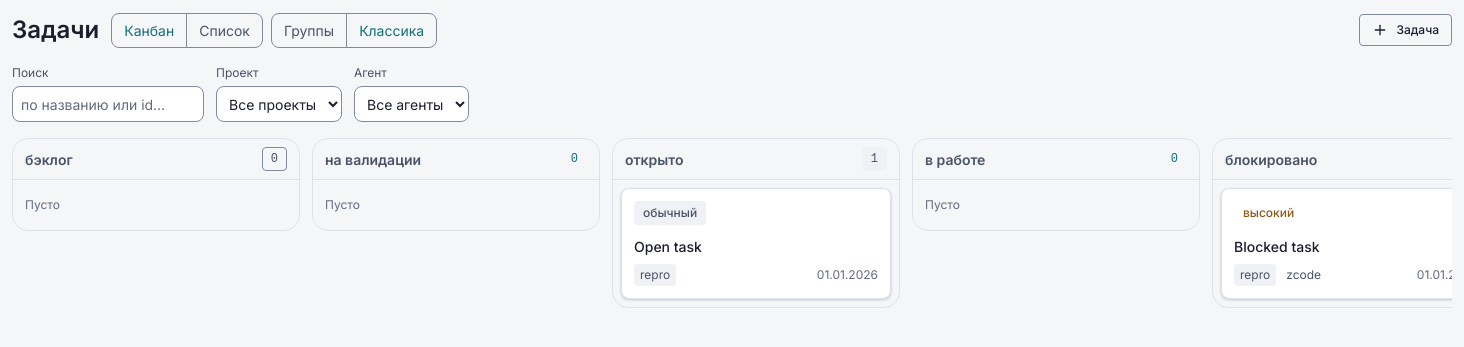
kanban card context menu (fix/kanban-context-menu) › the classic skin carries the same ⋯ and right-click entries
Right-click the list item "обычный Open task repro 01.01.2026": (756, 244) top-left (621, 188), bottom-right (891, 299)
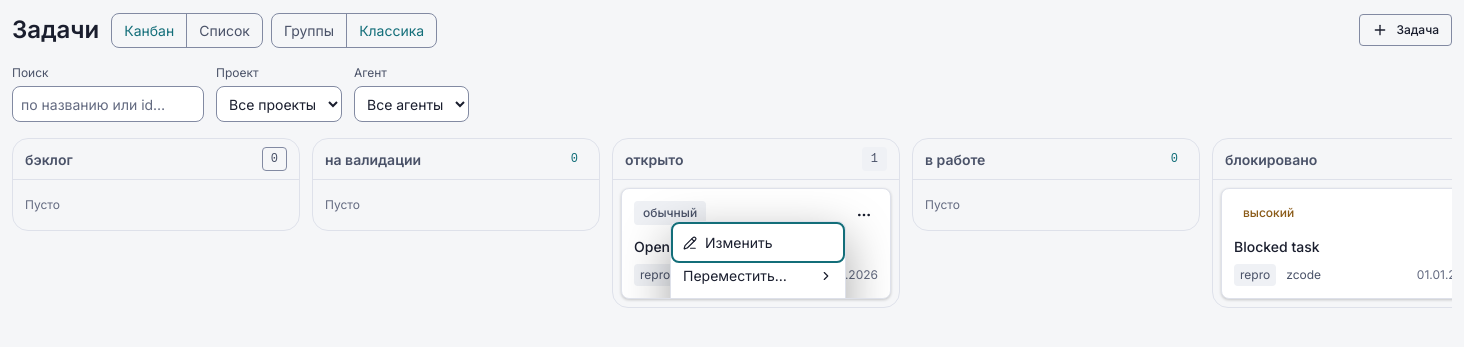
expect the menu is shown: met, box top-left (670, 221), bottom-right (846, 330)
